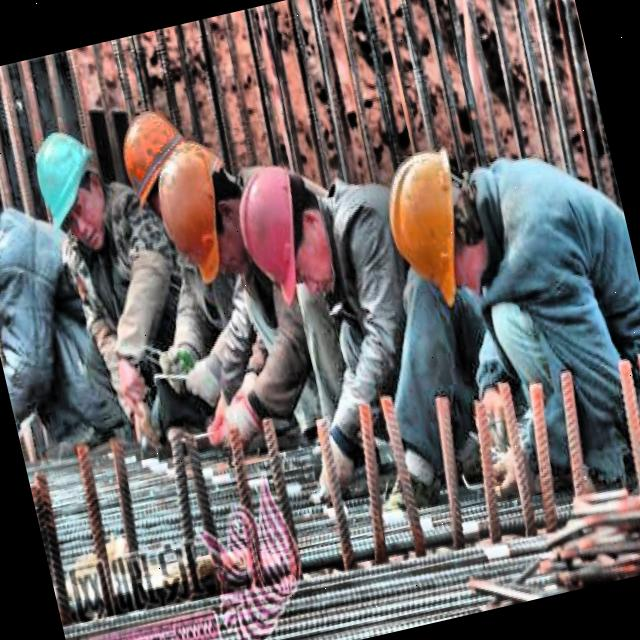helmet: (371, 138, 490, 302), (146, 130, 258, 286), (221, 154, 339, 302), (112, 98, 207, 255), (20, 118, 120, 258)
